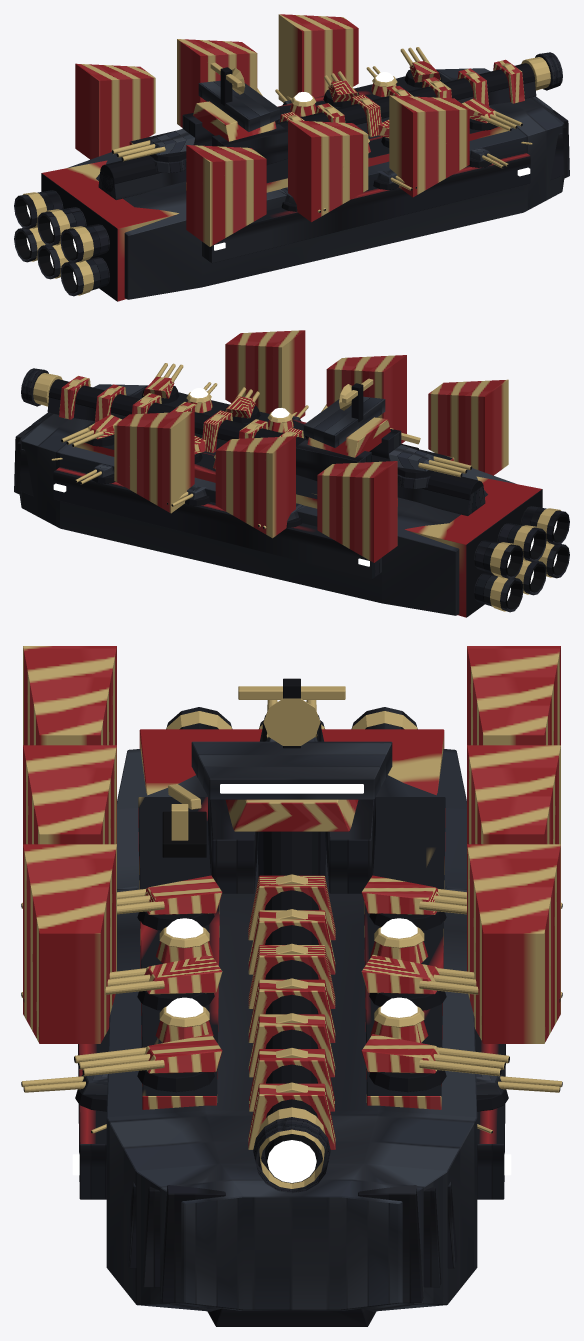
The model's file is battleship.glb.
3 renders of one model, top to bottom at view 1: azimuth 30°, elevation 25°; view 2: azimuth 150°, elevation 25°; view 3: azimuth 270°, elevation 25°, orthographic. The views are drawn at different scales.
Parts seen in each view (by area): view 1: faction-vektori_battleship; view 2: faction-vektori_battleship; view 3: faction-vektori_battleship.
Boxes of the visible parts, left/top/right/bottom form: faction-vektori_battleship: left=14, top=14, right=569, bottom=301; faction-vektori_battleship: left=14, top=330, right=569, bottom=617; faction-vektori_battleship: left=21, top=646, right=562, bottom=1326.
Bounding box in the file's own units: 60 × 19.71 × 27.7.
Materials: 1 (1 with a texture image).
